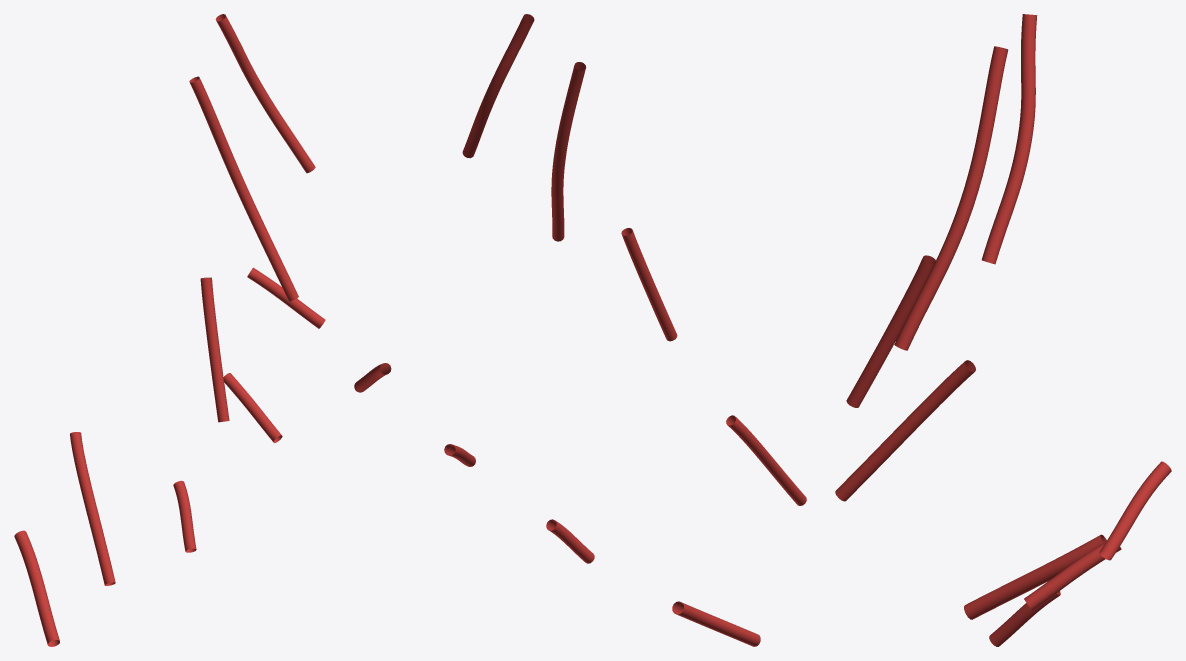
3 renders of one model, left to right at view 1: azimuth 30°, elevation 25°; view 2: azimuth 150°, elevation 25°; view 3: azimuth 270°, elevation 25°, orthographic. The views are drawn at different scales.
Visible parts, largest first — view 1: 左侧跖足底动脉穿支; view 2: 左侧跖足底动脉穿支; view 3: 左侧跖足底动脉穿支.
Part boxes in pixels (x1,y1,x2,y2): 左侧跖足底动脉穿支: (14,14,325,646); 左侧跖足底动脉穿支: (354,14,806,646); 左侧跖足底动脉穿支: (835,14,1171,646).
Size of the model in its own units: 0.0591 by 0.0969 by 0.0407.
